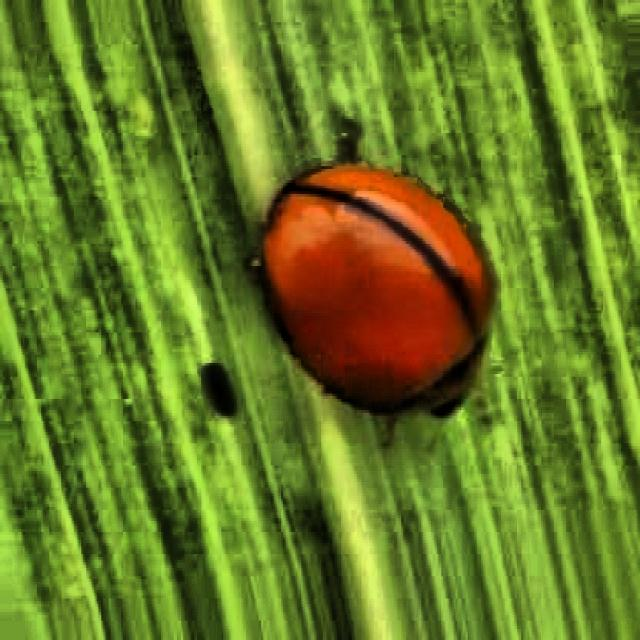Ladybug: (191, 66, 554, 514)
